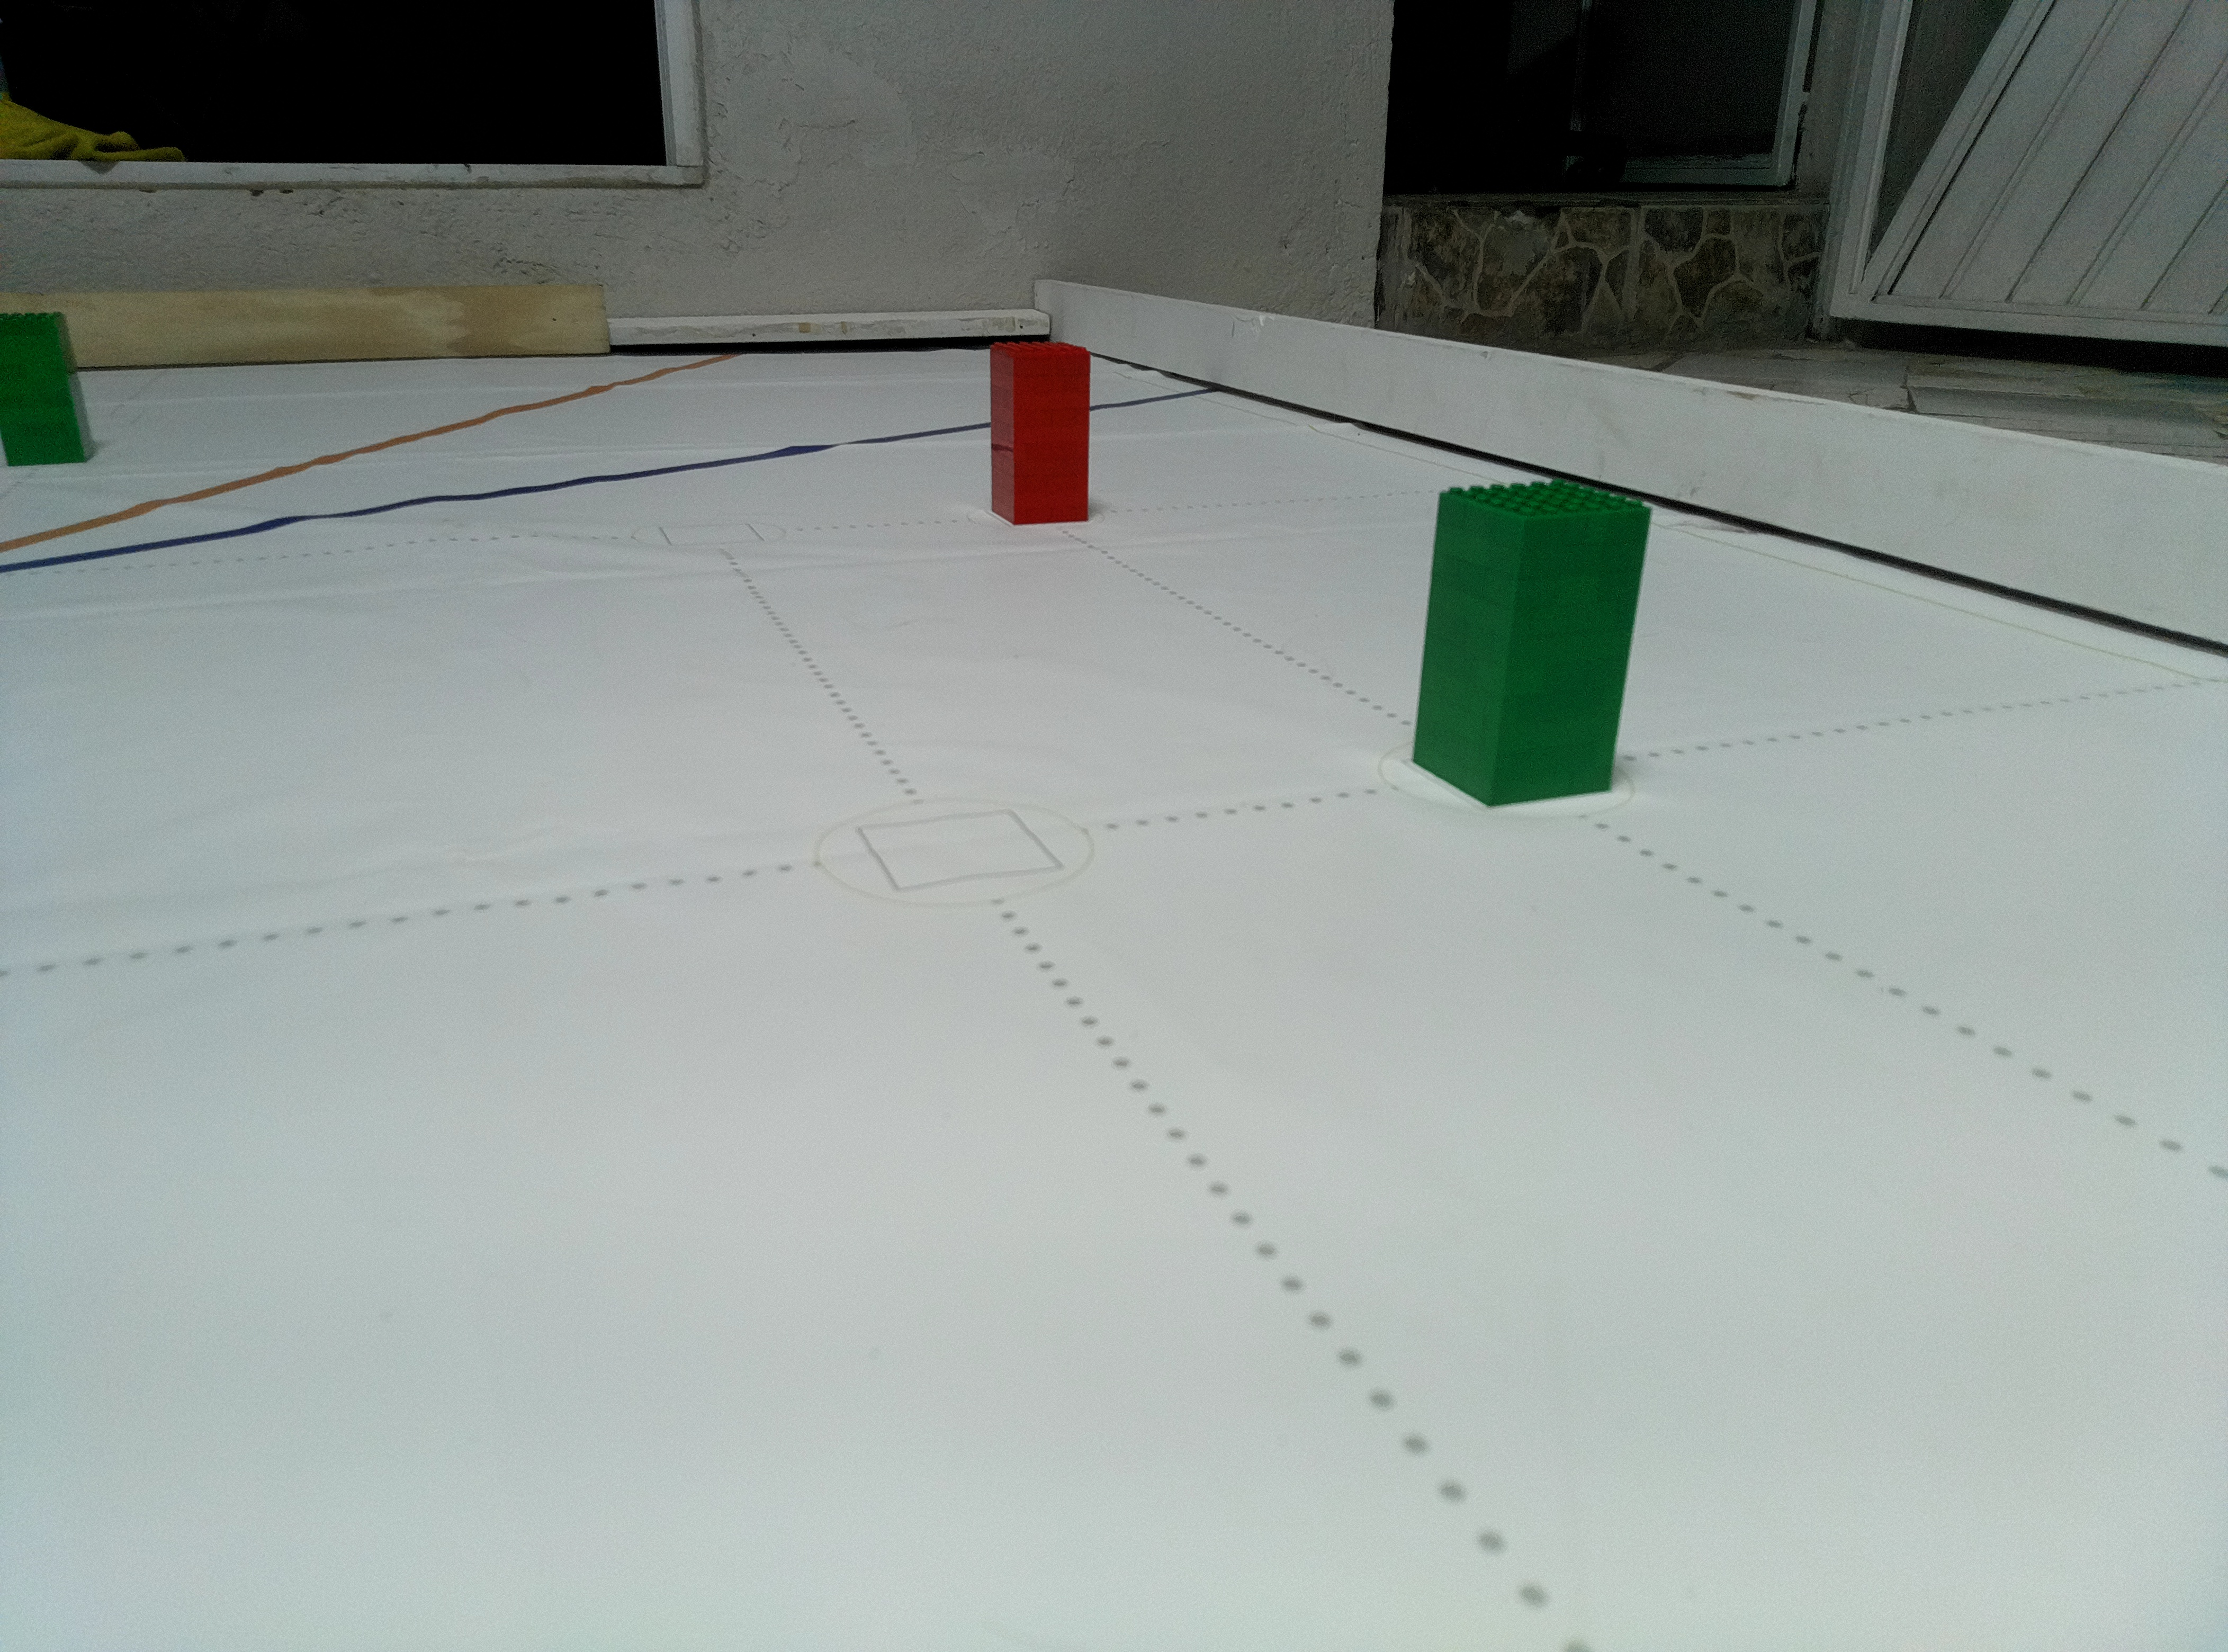greenbox: (1406, 475, 1657, 812), (0, 307, 101, 467)
redbox: (984, 338, 1093, 528)
